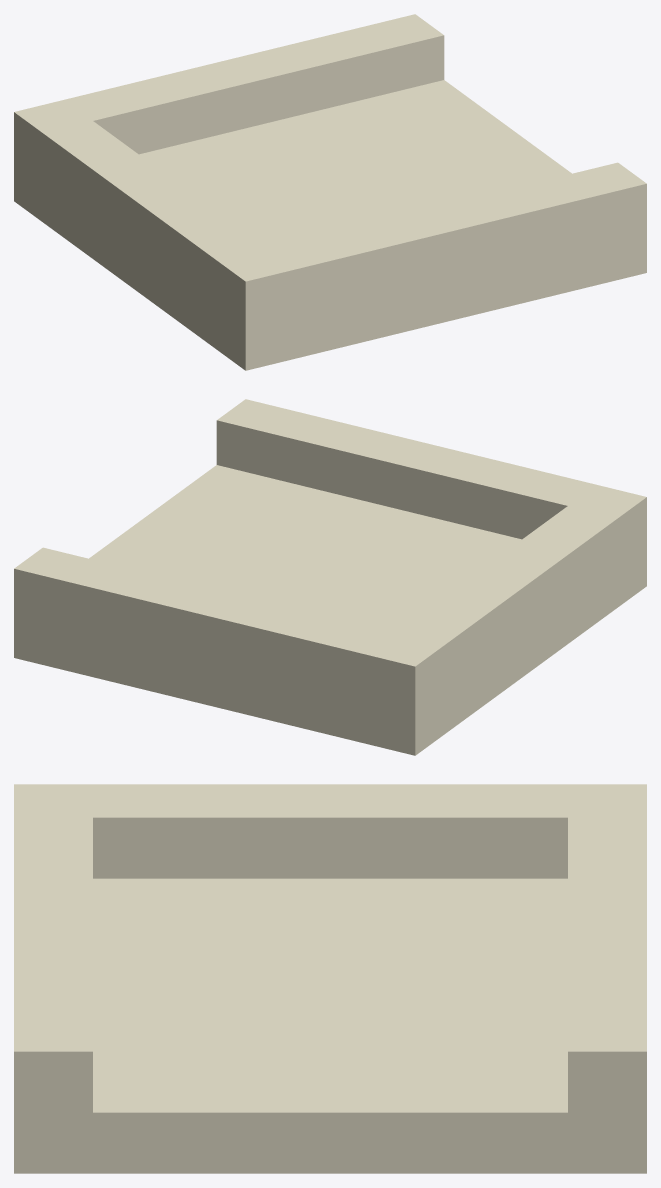
The model's file is modularBuildings_001.fbx.
3 views of the same model, one above another, from view 1: azimuth 30°, elevation 25°; view 2: azimuth 150°, elevation 25°; view 3: azimuth 270°, elevation 25° (orthographic). The views are drawn at different scales.
Parts seen in each view (by area): view 1: Mesh1_Group1 Model; view 2: Mesh1_Group1 Model; view 3: Mesh1_Group1 Model.
Part boxes in pixels (box(x1,y1,x2,y2)): Mesh1_Group1 Model: box(14, 14, 646, 370); Mesh1_Group1 Model: box(14, 399, 646, 755); Mesh1_Group1 Model: box(14, 784, 646, 1173).
Bounding box in the file's own units: 1 × 0.2125 × 1.
